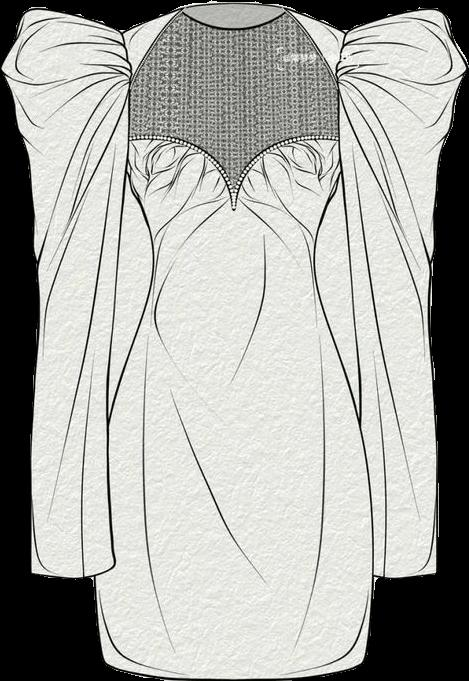Bodice: (122, 2, 346, 280)
Hemline: (103, 657, 363, 680)
Neckline: (122, 6, 345, 212)
Skirt: (95, 281, 374, 679)
Sleeve: (2, 10, 128, 579), (341, 10, 467, 578)
Sleeveline: (336, 29, 354, 164), (119, 30, 132, 171)
